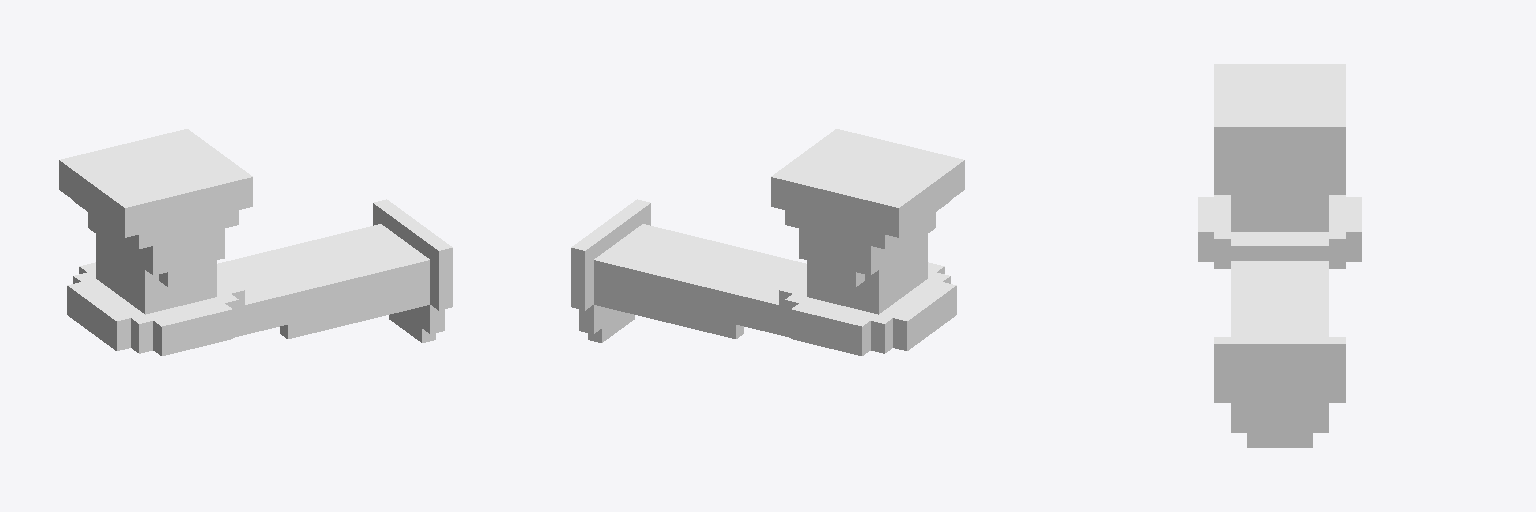
The model's file is Bottomcamera.obj.
3 renders of one model, left to right at view 1: azimuth 30°, elevation 25°; view 2: azimuth 150°, elevation 25°; view 3: azimuth 270°, elevation 25°, orthographic.
Visible parts, largest first — view 1: object 1; view 2: object 1; view 3: object 1.
Boxes of the visible parts, x1,y1,x2,y2 form: object 1: [59, 129, 452, 355]; object 1: [571, 129, 964, 355]; object 1: [1198, 64, 1361, 447].
Bounding box in the file's own units: 2.3 × 1.5 × 1.